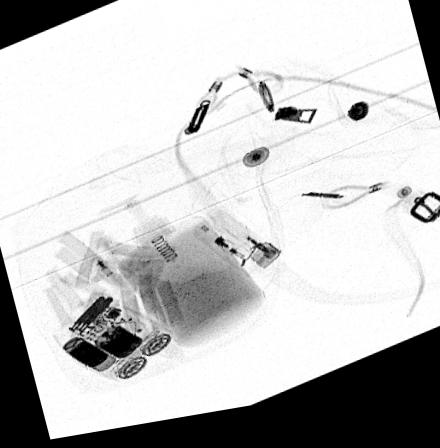Lighter: (190, 216, 281, 285)
